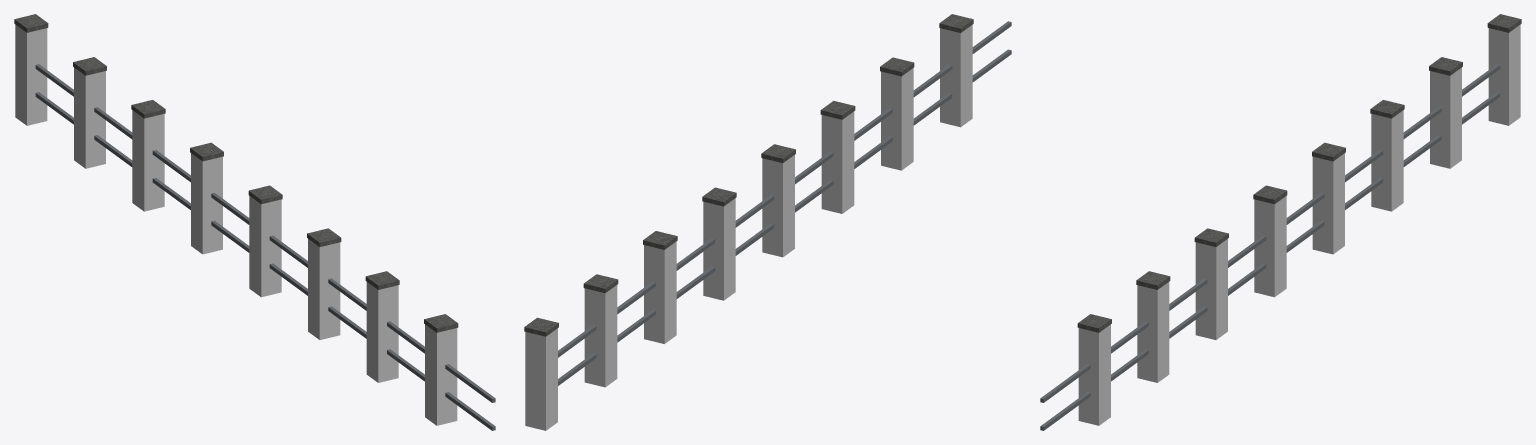
Rendered from Subway02_InterBorder.FBX.
The picture shows the model from 3 angles, left to right: view 1: azimuth 30°, elevation 25°; view 2: azimuth 150°, elevation 25°; view 3: azimuth 330°, elevation 25°; orthographic projection.
Visible parts, largest first — view 1: Subway02_InterBorder01, Subway02_InterBorder03, Subway02_InterBorder02; view 2: Subway02_InterBorder01, Subway02_InterBorder03, Subway02_InterBorder02; view 3: Subway02_InterBorder01, Subway02_InterBorder03, Subway02_InterBorder02.
Boxes of the visible parts, bbox=[...] form: Subway02_InterBorder01: bbox=[15, 24, 457, 425]; Subway02_InterBorder03: bbox=[35, 64, 495, 430]; Subway02_InterBorder02: bbox=[14, 14, 458, 332]; Subway02_InterBorder01: bbox=[525, 25, 972, 430]; Subway02_InterBorder03: bbox=[558, 21, 1011, 385]; Subway02_InterBorder02: bbox=[524, 14, 973, 336]; Subway02_InterBorder01: bbox=[1078, 24, 1520, 425]; Subway02_InterBorder03: bbox=[1040, 64, 1500, 430]; Subway02_InterBorder02: bbox=[1077, 14, 1521, 332].
Size of the model in its own units: 324 by 1418 by 12307.
